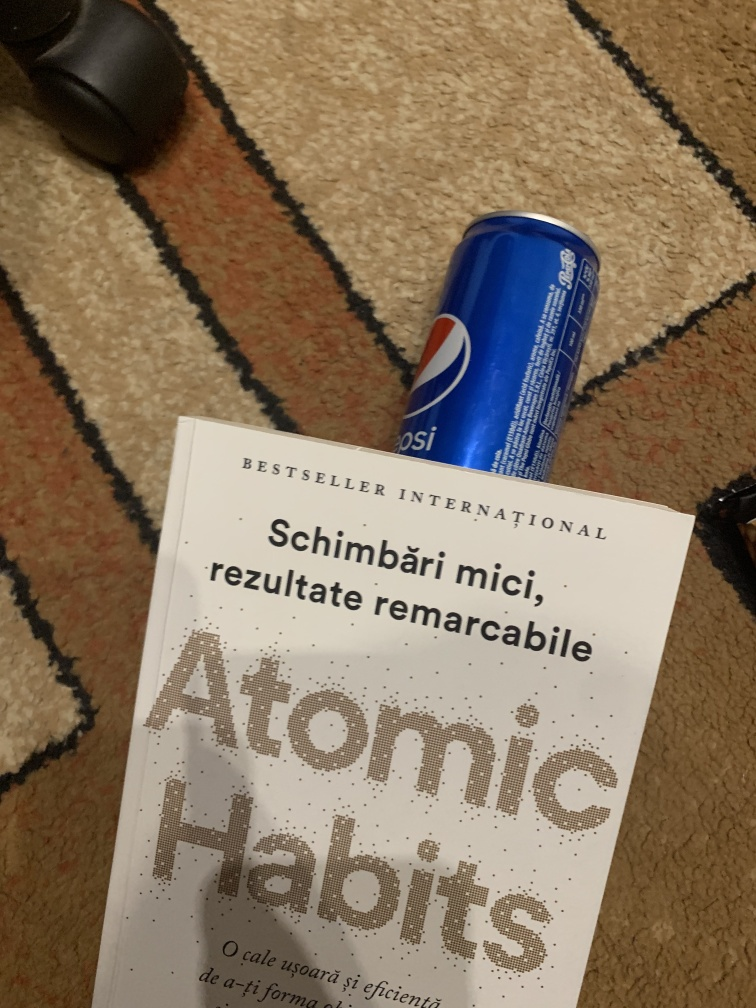pepsi: (394, 209, 605, 488)
